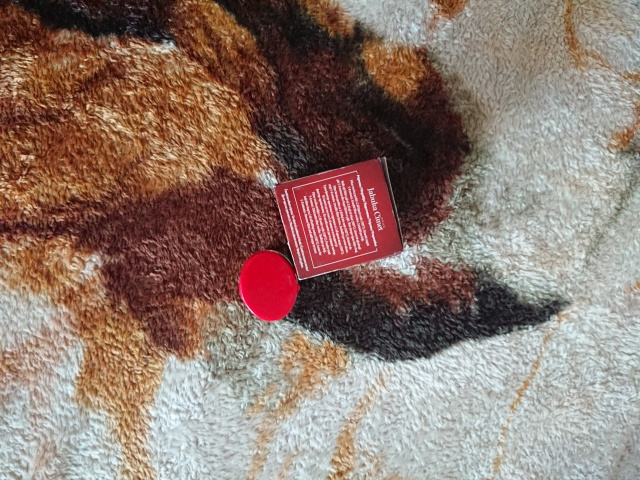Franck Apple Cinnamon Tea 60g: (271, 153, 411, 285)
Kotanyi Curry Spices Mix 70g: (236, 248, 302, 324)
